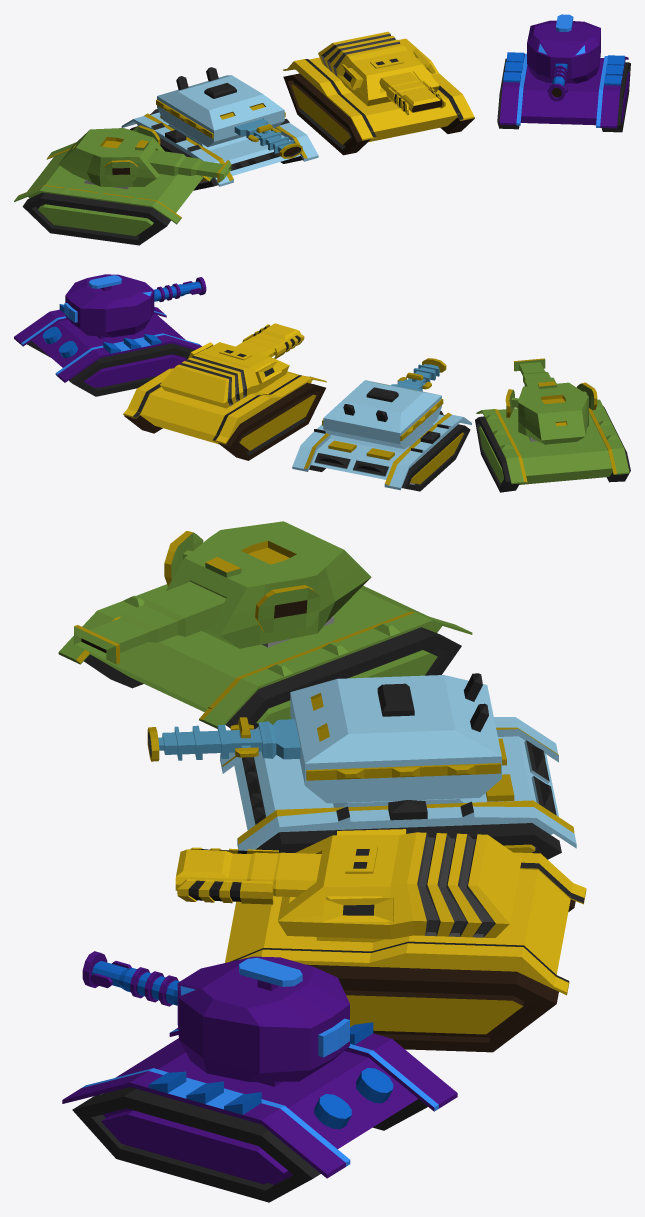
The model's file is tanks.glb.
The picture shows the model from 3 angles, top to bottom: view 1: azimuth 30°, elevation 25°; view 2: azimuth 150°, elevation 25°; view 3: azimuth 270°, elevation 25°; orthographic projection. The views are drawn at different scales.
Visible parts, largest first — view 1: Cube, TankYellow, Cube.001, BlueTank; view 2: TankYellow, Cube.001, BlueTank, Cube; view 3: TankYellow, Cube.001, BlueTank, Cube.
Boxes of the visible parts, x1,y1,x2,y2 form: Cube: (14, 125, 231, 245); TankYellow: (283, 31, 474, 155); Cube.001: (497, 14, 630, 132); BlueTank: (121, 67, 318, 190); TankYellow: (123, 323, 326, 460); Cube.001: (14, 274, 206, 396); BlueTank: (292, 358, 471, 491); Cube: (475, 358, 630, 492); TankYellow: (175, 829, 586, 1052); Cube.001: (62, 951, 457, 1202); BlueTank: (147, 673, 576, 859); Cube: (58, 521, 472, 729).
Size of the model in its own units: 14.86 by 2.01 by 5.55.
4 materials, 4 textured.
